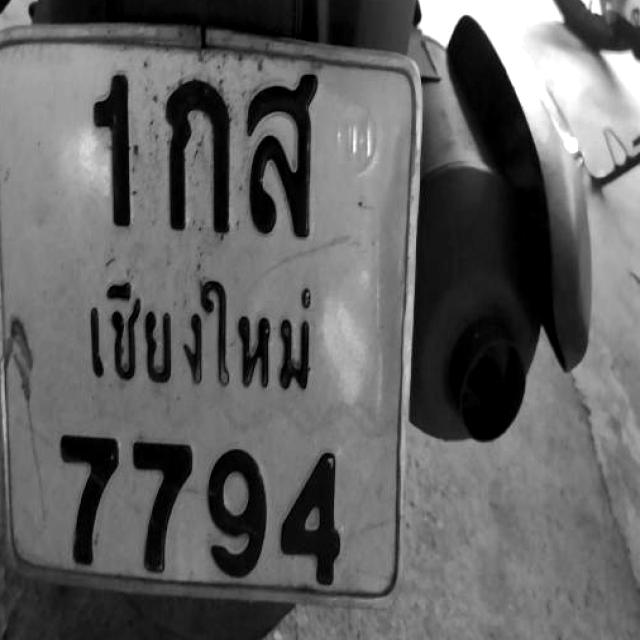letters: (242, 77, 339, 238), (155, 77, 239, 243), (34, 423, 118, 578), (269, 441, 351, 578), (119, 428, 188, 578), (199, 442, 269, 577), (84, 75, 141, 236)
license-plate: (0, 31, 423, 605)
province: (51, 255, 342, 408)
